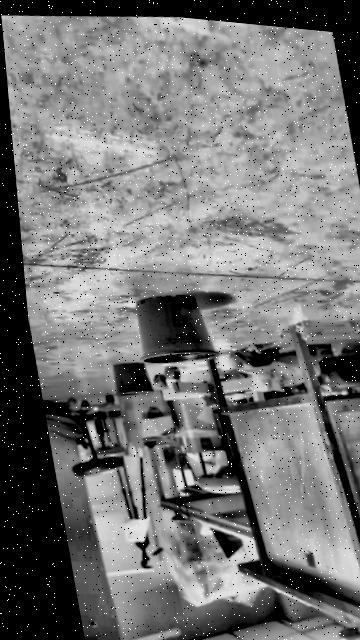pot: (129, 288, 220, 371), (110, 359, 155, 399)
